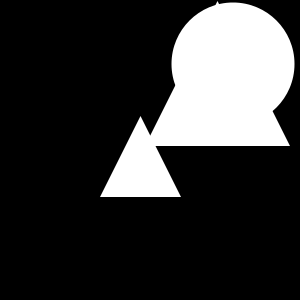rectangle: (172, 3, 294, 126)
triangle: (145, 1, 290, 146), (100, 116, 181, 197)
